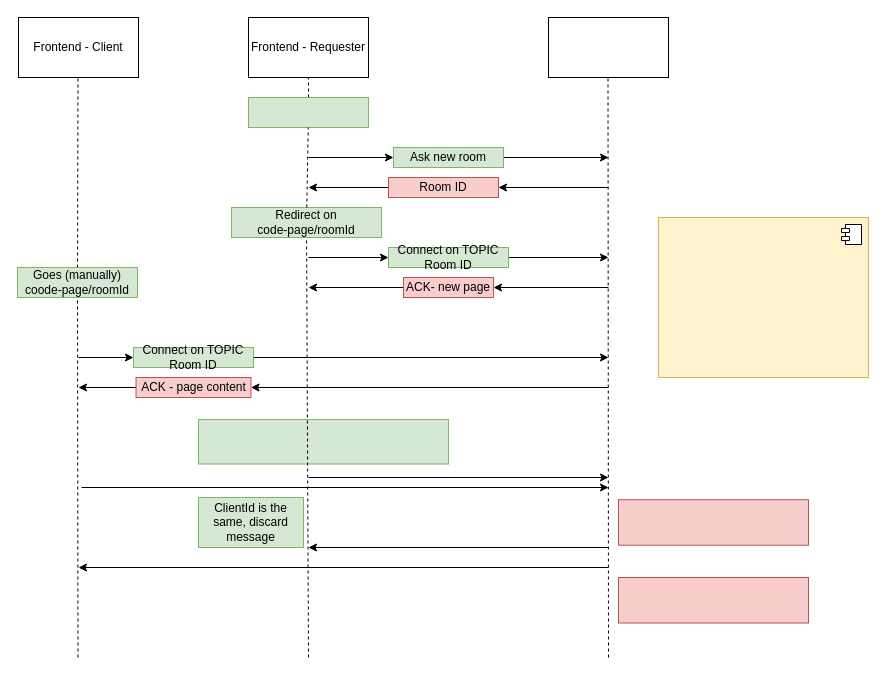
Some shapes in this 886 by 676 pixel diagram are drawn without their labels. The centre of each missing label's shape, as x and y in pixels:
BroadCast message to all connected Client: (713,522)
Message object: - roomId - clientId - characters - starting row -starting col: (763,297)
On client modification of text -> send message on topic RoomId: (323,441)
Save Page on local DB: (713,599)
Server: (608,47)
www.direct-code.it: (308,112)
